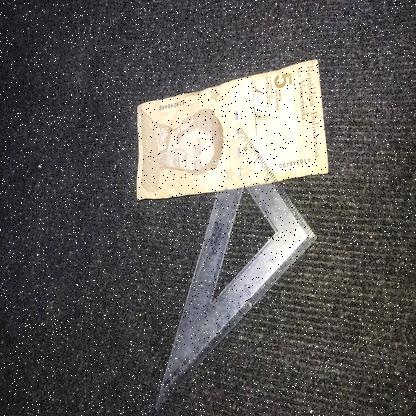five-front-vef: (135, 58, 328, 200)
